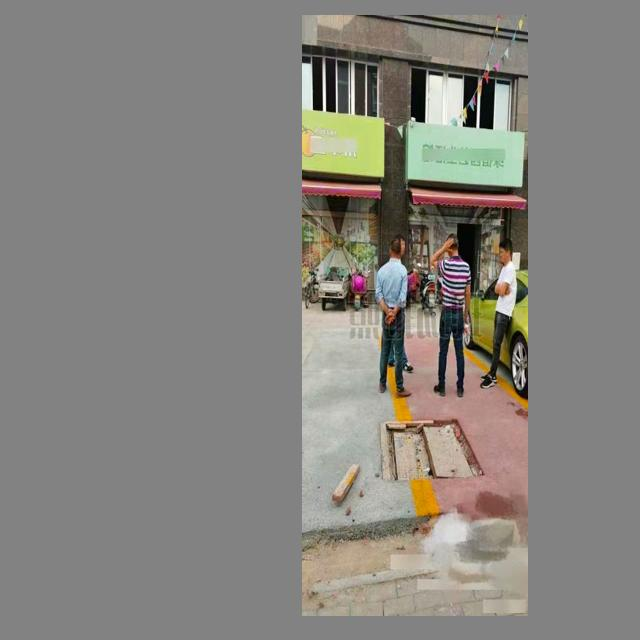circle: (381, 419, 480, 483)
